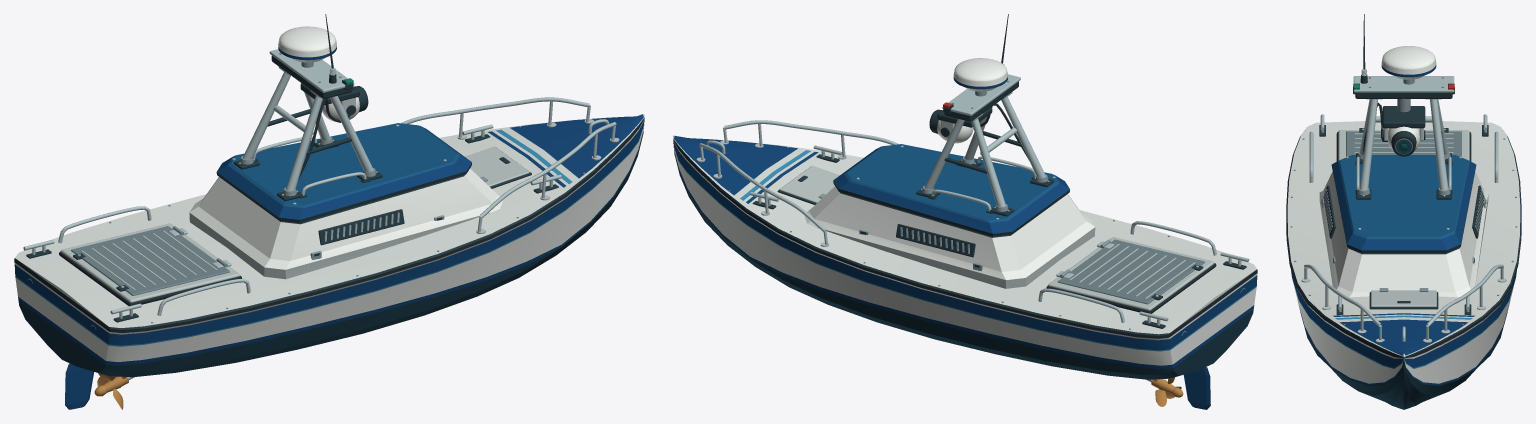
The model's file is 水面无人艇.glb.
3 views of the same model, side by side, from view 1: azimuth 30°, elevation 25°; view 2: azimuth 150°, elevation 25°; view 3: azimuth 270°, elevation 25° (orthographic). The views are drawn at different scales.
Parts seen in each view (by area): view 1: Porcelain white gelcoat (×3), Cool white moulded deck, Deep ultramarine enamel (×3), Ocean blue cover, Brushed stainless steel (×3), Navy antifouling coat, Anodised instrument housing (×4), Light grey service panel (×2), Non-skid hatch inset, Graphite rubber (×2), Signal blue pinstripe; view 2: Porcelain white gelcoat (×3), Cool white moulded deck, Deep ultramarine enamel (×3), Ocean blue cover, Navy antifouling coat, Brushed stainless steel (×2), Anodised instrument housing (×4), Light grey service panel (×2), Non-skid hatch inset, Graphite rubber (×2), Signal blue pinstripe; view 3: Cool white moulded deck, Porcelain white gelcoat (×3), Ocean blue cover, Deep ultramarine enamel (×2), Brushed stainless steel (×3), Anodised instrument housing (×4), Light grey service panel (×2), Navy antifouling coat, Non-skid hatch inset, Graphite rubber (×2), Satin aluminium (×2), Signal blue pinstripe.
Boxes of the visible parts, box(x1,y1,x2,y2) form: Porcelain white gelcoat (×3): box(14, 26, 644, 361); Cool white moulded deck: box(15, 114, 644, 327); Deep ultramarine enamel (×3): box(14, 114, 644, 409); Ocean blue cover: box(228, 123, 460, 208); Brushed stainless steel (×3): box(23, 49, 616, 329); Navy antifouling coat: box(18, 121, 644, 377); Anodised instrument housing (×4): box(14, 14, 643, 329); Light grey service panel (×2): box(61, 119, 619, 302); Non-skid hatch inset: box(71, 226, 229, 295); Graphite rubber (×2): box(14, 118, 644, 333); Signal blue pinstripe: box(15, 129, 642, 346); Porcelain white gelcoat (×3): box(673, 58, 1257, 365); Cool white moulded deck: box(673, 135, 1256, 334); Deep ultramarine enamel (×3): box(673, 136, 1257, 409); Ocean blue cover: box(844, 144, 1059, 222); Navy antifouling coat: box(673, 143, 1253, 379); Brushed stainless steel (×2): box(699, 64, 1249, 335); Anodised instrument housing (×4): box(673, 14, 1257, 335); Light grey service panel (×2): box(696, 140, 1214, 310); Non-skid hatch inset: box(1057, 239, 1204, 304); Graphite rubber (×2): box(673, 140, 1257, 338); Signal blue pinstripe: box(674, 147, 1256, 351); Cool white moulded deck: box(1287, 121, 1520, 356); Porcelain white gelcoat (×3): box(1293, 46, 1514, 383); Ocean blue cover: box(1338, 155, 1469, 239); Deep ultramarine enamel (×2): box(1291, 161, 1516, 385); Brushed stainless steel (×3): box(1304, 69, 1503, 341); Anodised instrument housing (×4): box(1286, 14, 1521, 356); Light grey service panel (×2): box(1301, 75, 1506, 342); Navy antifouling coat: box(1299, 309, 1508, 409); Non-skid hatch inset: box(1346, 131, 1461, 156); Graphite rubber (×2): box(1286, 102, 1521, 357); Satin aluminium (×2): box(1322, 77, 1485, 264); Signal blue pinstripe: box(1298, 300, 1509, 368).
Size of the model in its own units: 2.4 by 1.41 by 0.9.
